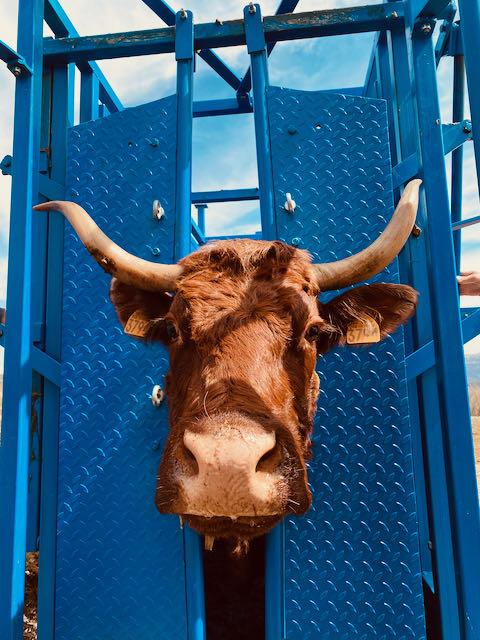muzzles: (151, 417, 313, 539)
